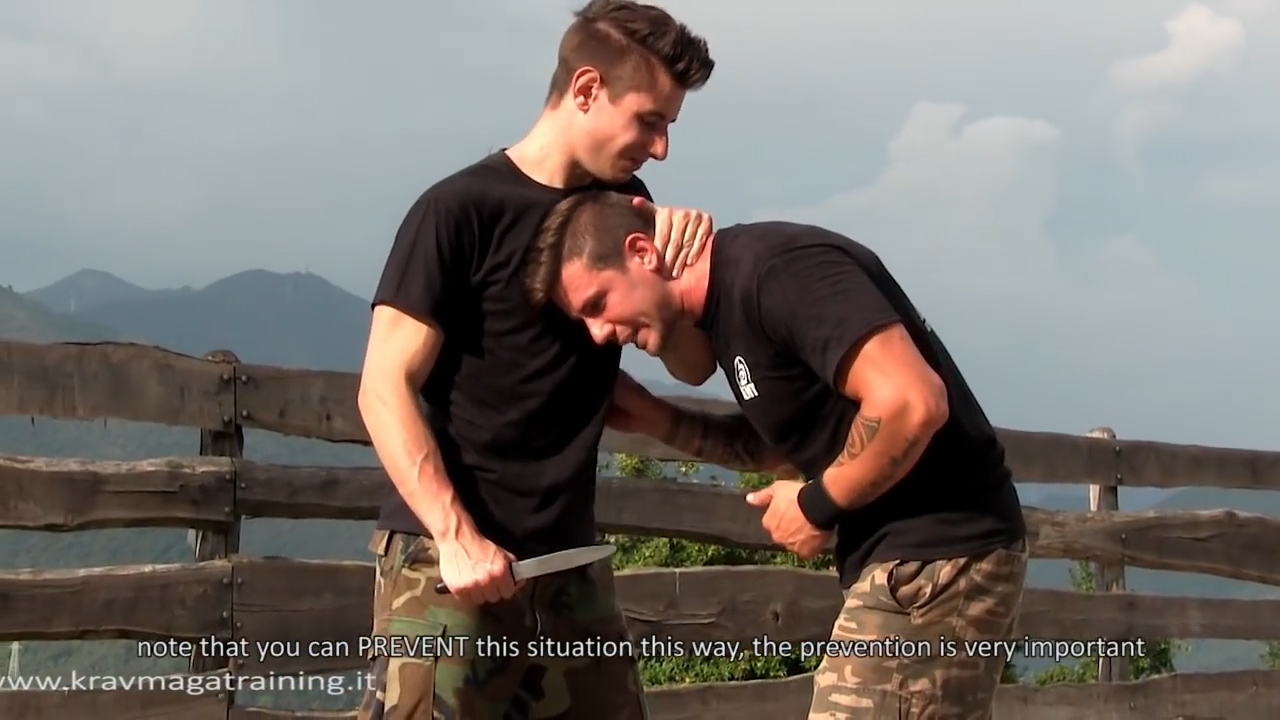knife: (428, 530, 626, 612)
